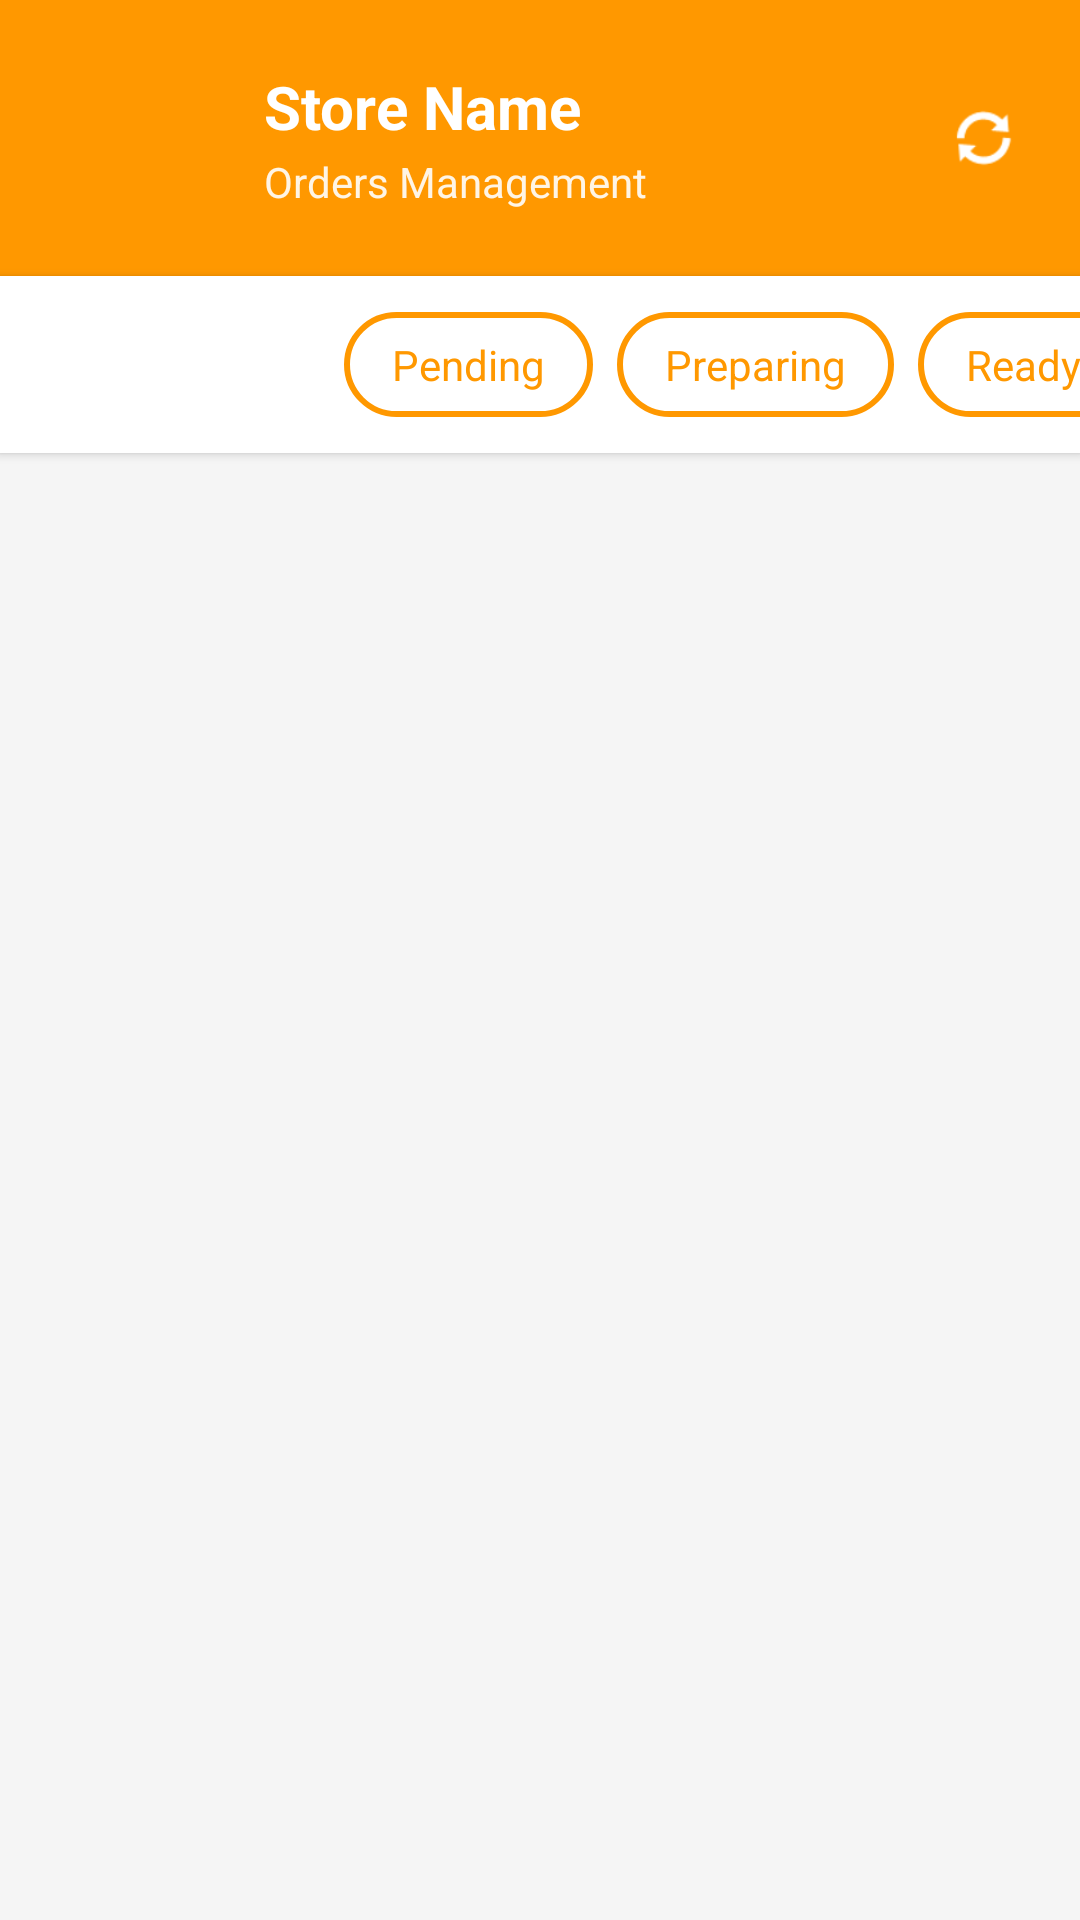

Named icons in this screenshot (1080 x 1920) and their centers, point (x, y):
popup sync: point (983, 138)
